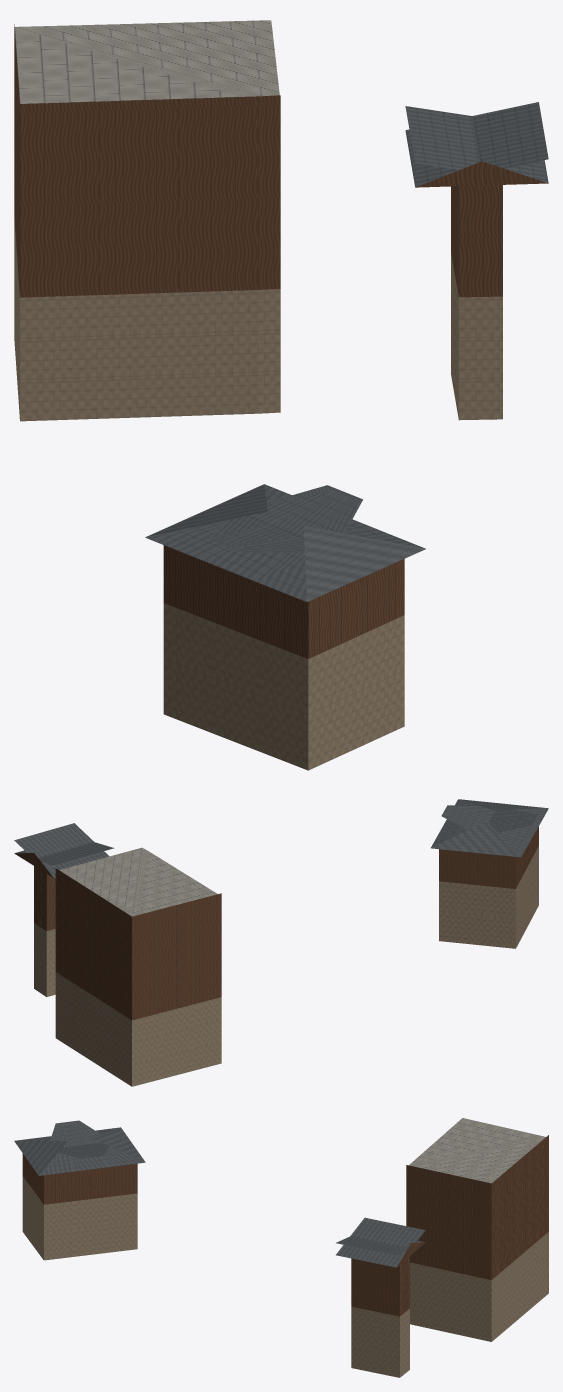
Rendered from bld_c8_8_494.gltf.
3 renders of one model, top to bottom at view 1: azimuth 30°, elevation 25°; view 2: azimuth 150°, elevation 25°; view 3: azimuth 270°, elevation 25°, orthographic. The views are drawn at different scales.
Parts seen in each view (by area): view 1: bld_c8_8_494; view 2: bld_c8_8_494; view 3: bld_c8_8_494.
Boxes of the visible parts, <box> form: bld_c8_8_494: <box>14,20,548,770</box>; bld_c8_8_494: <box>14,799,548,1086</box>; bld_c8_8_494: <box>14,1118,548,1377</box>.
Bounding box in the file's own units: 28.9 × 13.38 × 39.98.
Materials: 5 (5 with a texture image).
